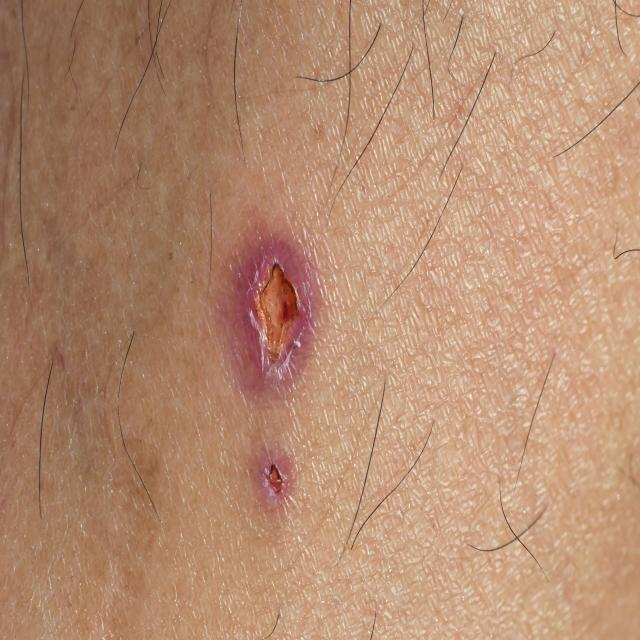stage-2: (257, 265, 302, 360)
